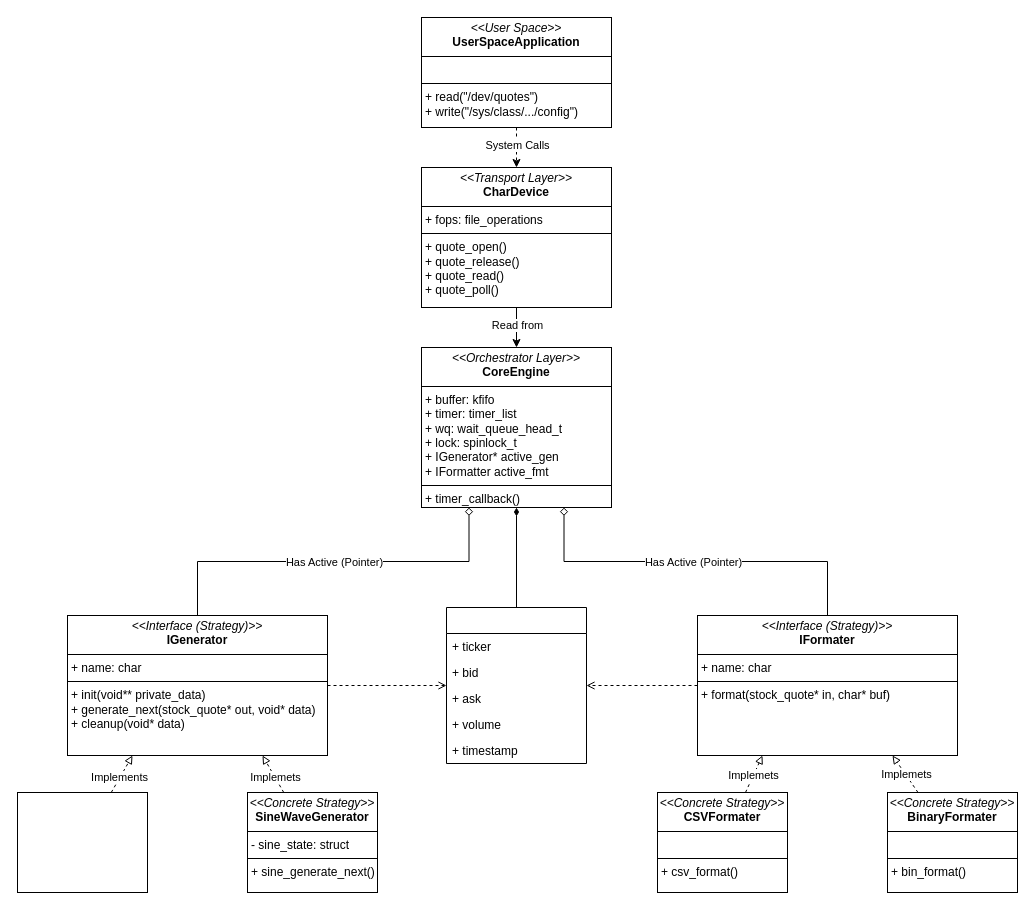
Some shapes in this 1035 by 910 pixel diagram are drawn without their labels. Here are the shapes that lost their labels. From the top down, the box of each, then its label:
(446, 606, 586, 764): stock_quote
(16, 792, 148, 892): <<Concrete Strategy>> RandomWalkStrategy - rw_state: struct + rw_generate_next()
